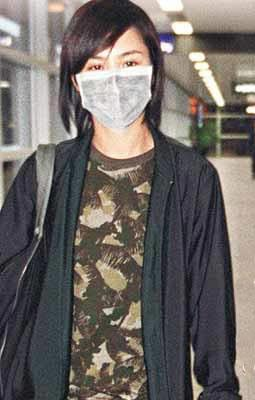OK: (77, 46, 162, 131)
